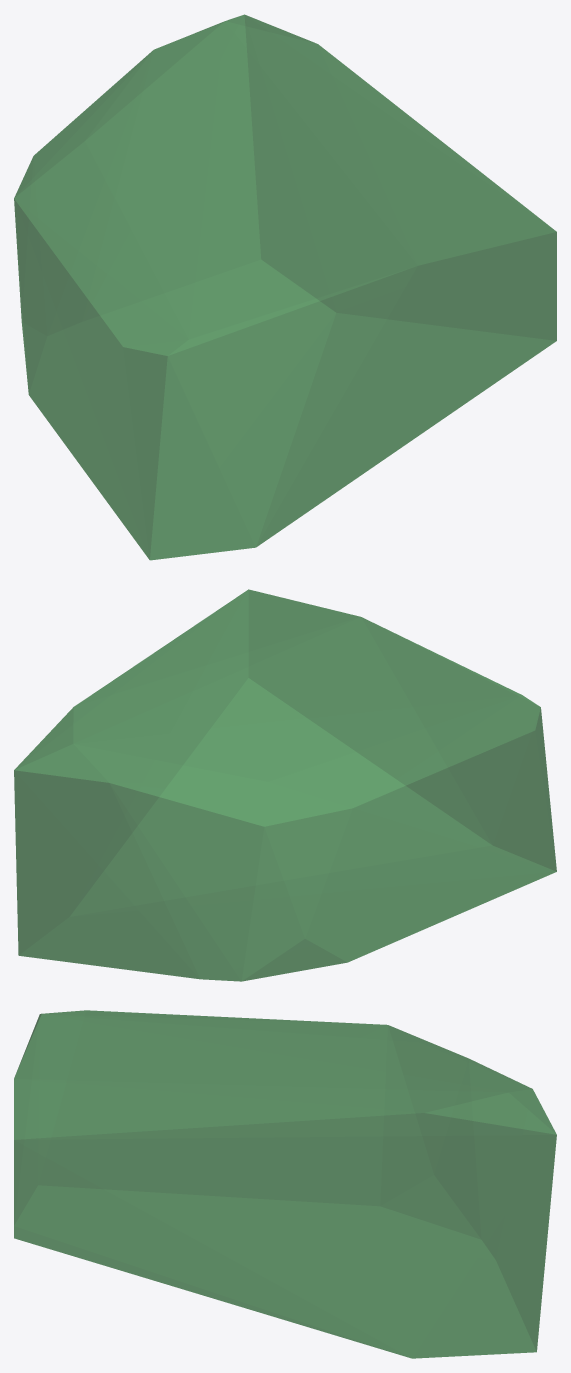
The picture shows the model from 3 angles, top to bottom: view 1: azimuth 30°, elevation 25°; view 2: azimuth 150°, elevation 25°; view 3: azimuth 270°, elevation 25°; orthographic projection. The views are drawn at different scales.
Parts seen in each view (by area): view 1: Shape_IndexedFaceSet.003_Shape_IndexedFaceSet.15985; view 2: Shape_IndexedFaceSet.003_Shape_IndexedFaceSet.15985; view 3: Shape_IndexedFaceSet.003_Shape_IndexedFaceSet.15985.
Part boxes in pixels (x1=…): Shape_IndexedFaceSet.003_Shape_IndexedFaceSet.15985: x1=14, y1=14, x2=556, y2=560; Shape_IndexedFaceSet.003_Shape_IndexedFaceSet.15985: x1=14, y1=589, x2=556, y2=981; Shape_IndexedFaceSet.003_Shape_IndexedFaceSet.15985: x1=14, y1=1010, x2=556, y2=1358.
Bounding box in the file's own units: 0.1175 × 0.076 × 0.1555.
